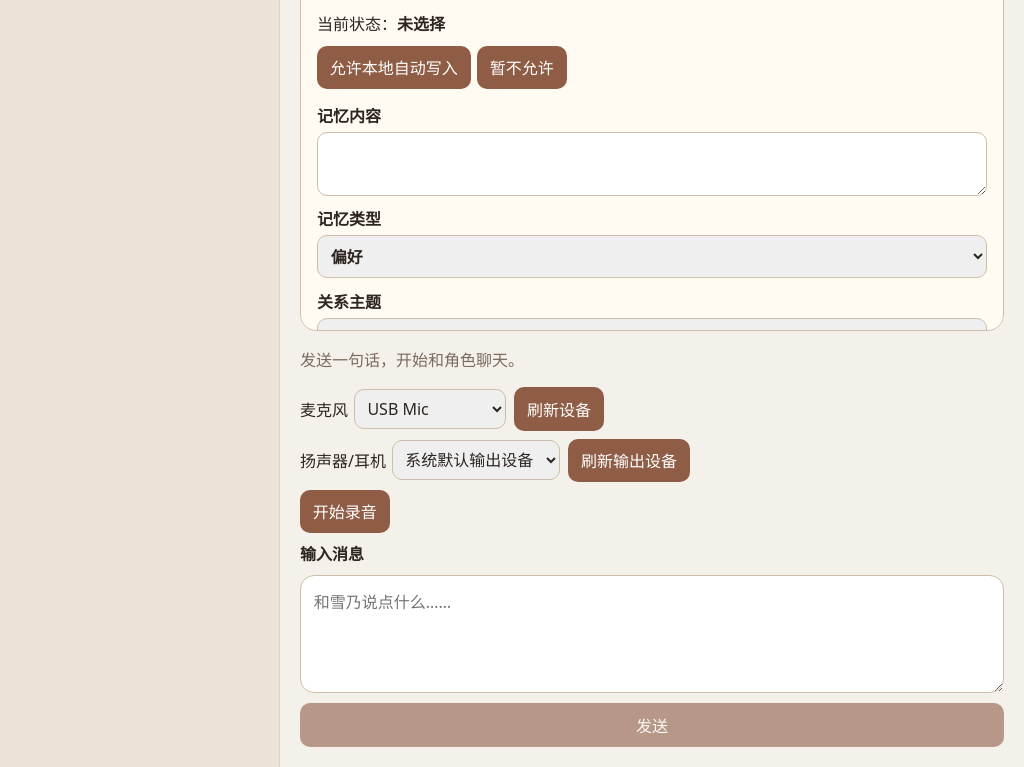
Test: App › disables microphone device controls while recording
(page scrolled)
Click the button "开始录音" at (345,511), box top-left (300, 490), bottom-right (390, 533)
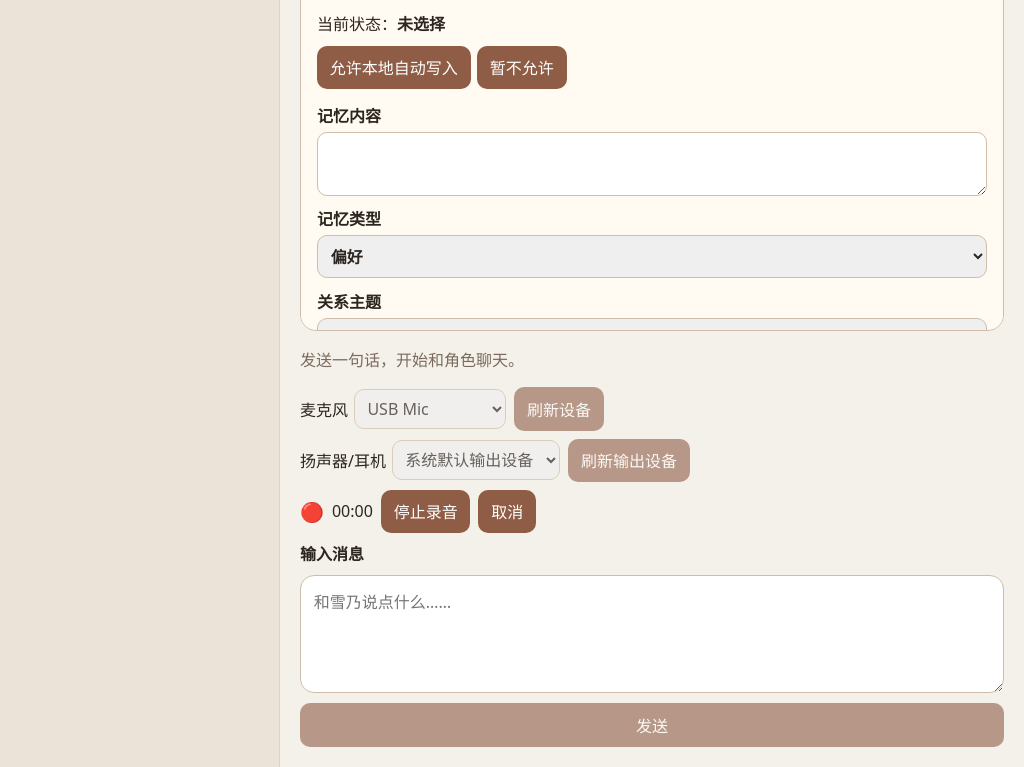
Result: the dropdown labelled "麦克风" is disabled at top-left (354, 389), bottom-right (506, 429)
Result: the button "刷新设备" is disabled at top-left (514, 388), bottom-right (604, 431)
